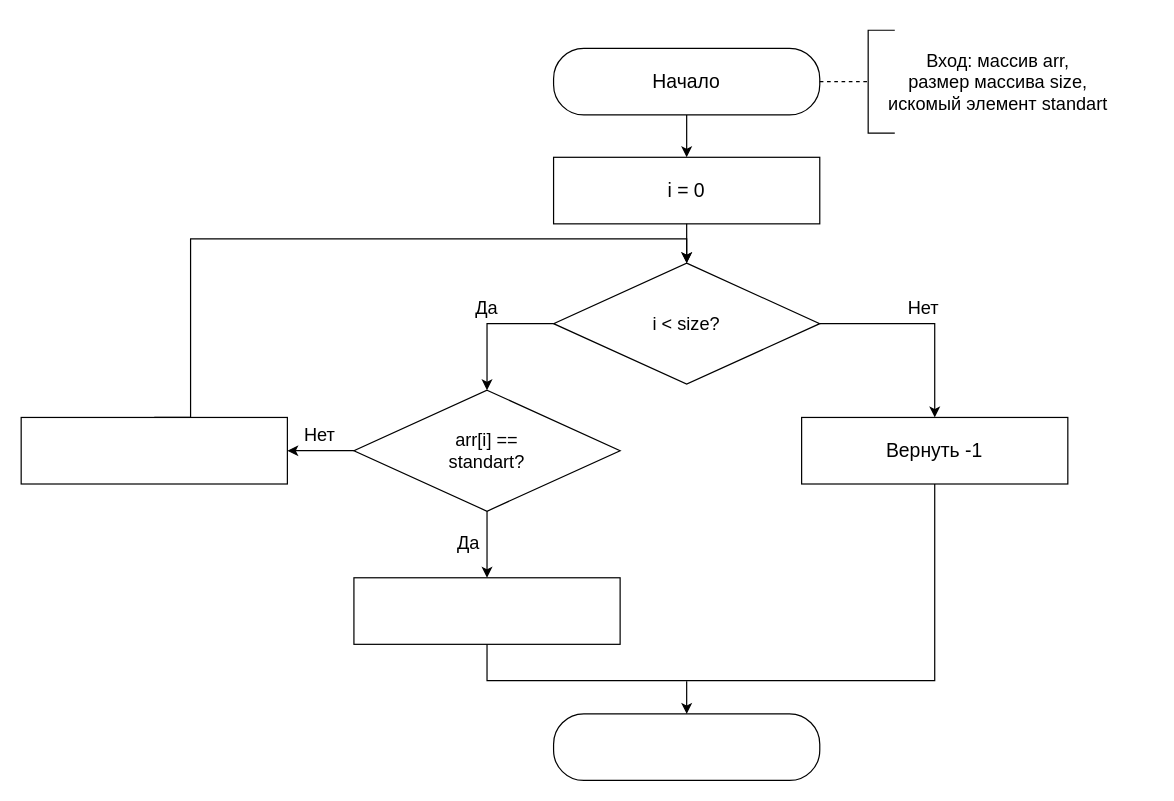
Image size: 1174x801. Some labels were removed from this diagram. The centre of each missing label's shape, as x and y in pixels:
"i += 1" belongs at pixel 153 450.
"Вернуть i" belongs at pixel 486 610.
"Конец" belongs at pixel 686 746.
